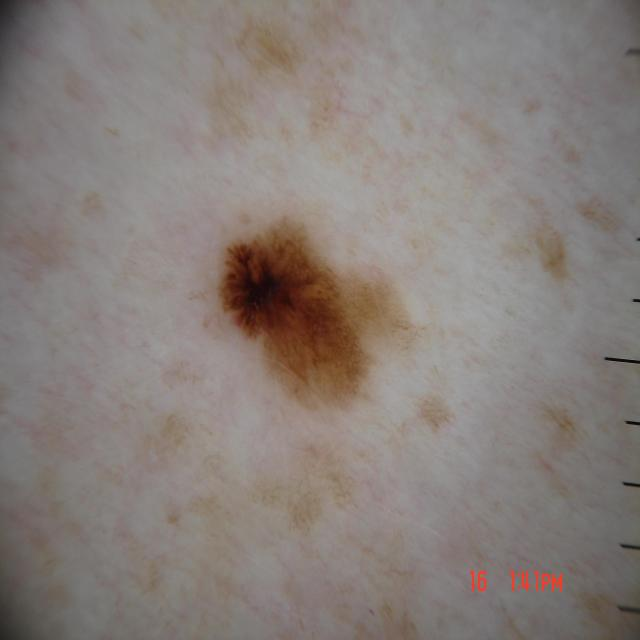Melanoma: (208, 196, 415, 430)
